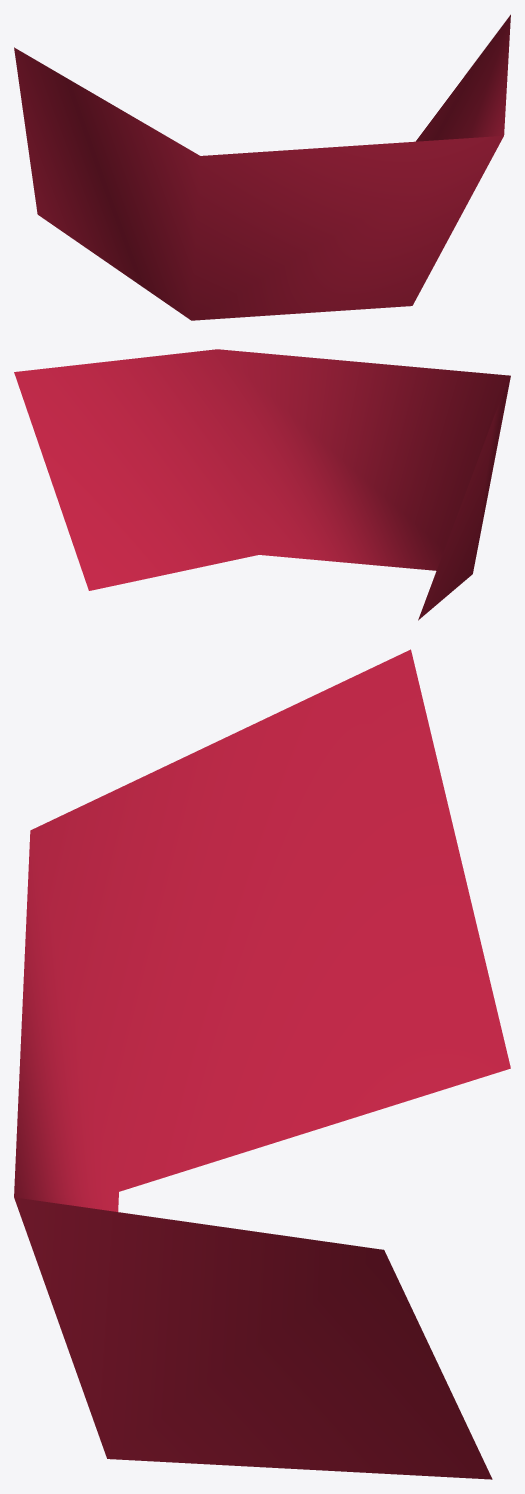
3 renders of one model, top to bottom at view 1: azimuth 30°, elevation 25°; view 2: azimuth 150°, elevation 25°; view 3: azimuth 270°, elevation 25°, orthographic. The views are drawn at different scales.
Parts seen in each view (by area): view 1: ef_427; view 2: ef_427; view 3: ef_427.
Boxes of the visible parts, box(x1,y1,x2,y2) form: ef_427: box(14, 14, 510, 320); ef_427: box(14, 349, 510, 620); ef_427: box(14, 649, 510, 1479).
Size of the model in its own units: 0.8649 by 0.4672 by 0.4053.
Materials: 1 (1 with a texture image).
